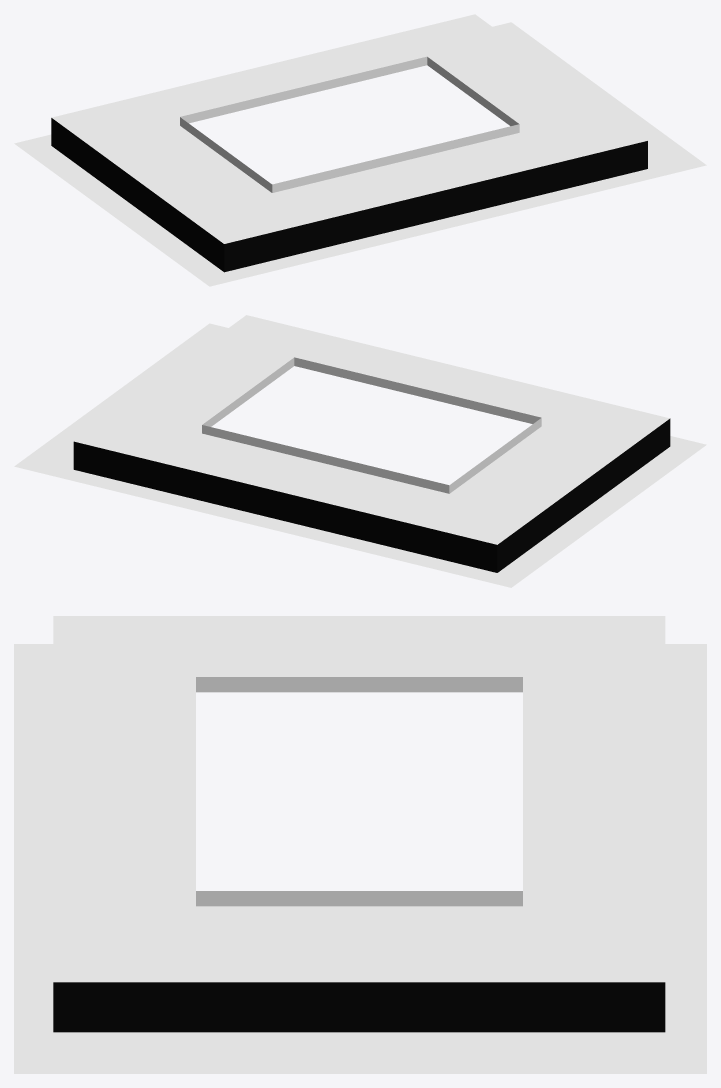
The model's file is Teto.glb.
3 renders of one model, top to bottom at view 1: azimuth 30°, elevation 25°; view 2: azimuth 150°, elevation 25°; view 3: azimuth 270°, elevation 25°, orthographic. The views are drawn at different scales.
Parts seen in each view (by area): view 1: Teto; view 2: Teto; view 3: Teto.
Boxes of the visible parts, left/top/right/bottom form: Teto: left=14, top=14, right=706, bottom=286; Teto: left=14, top=315, right=706, bottom=587; Teto: left=14, top=616, right=706, bottom=1073.
Bounding box in the file's own units: 9.07 × 0.6424 × 6.18.
1 material, 1 textured.
